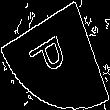P_NE: (32, 28, 78, 82)
